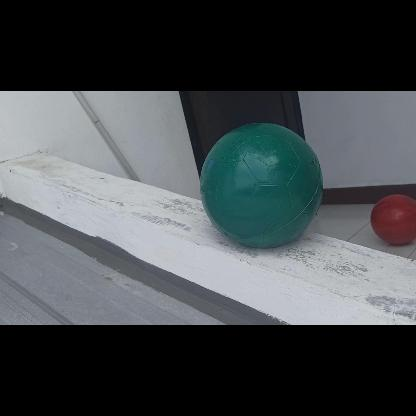green_ball: (200, 122, 322, 245)
